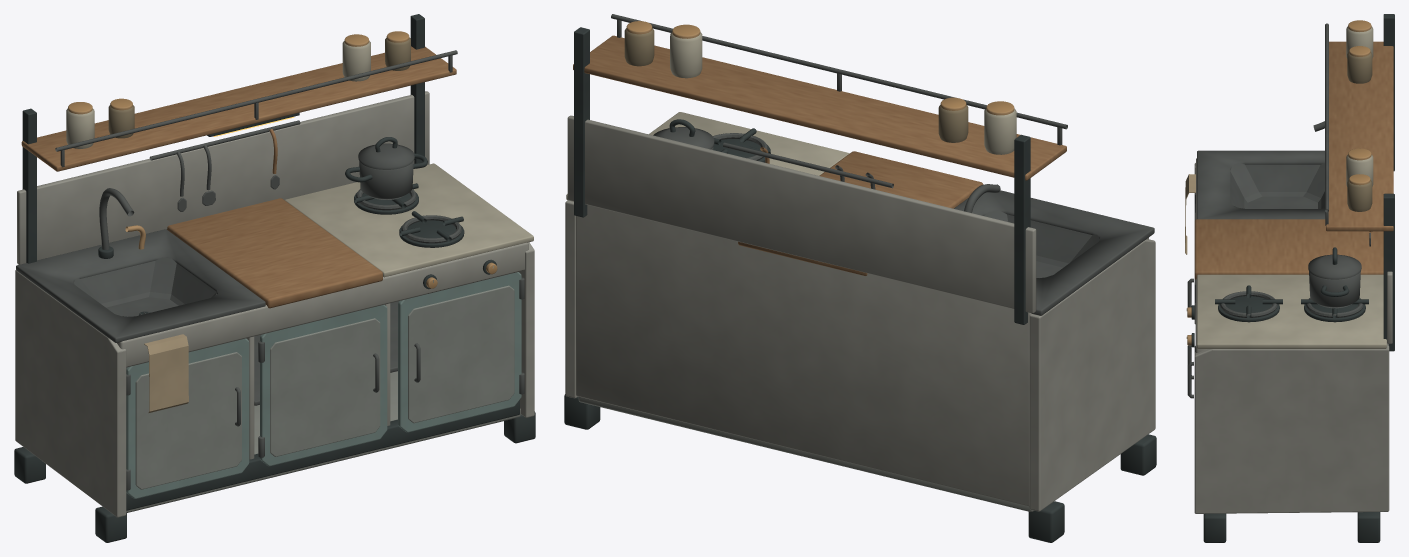
Rendered from NW9_Kitchen.fbx.
The picture shows the model from 3 angles, left to right: view 1: azimuth 30°, elevation 25°; view 2: azimuth 150°, elevation 25°; view 3: azimuth 270°, elevation 25°; orthographic projection. The views are drawn at different scales.
Visible parts, largest first — view 1: NW9_Kitchen_Mesh, NW9_Kitchen_Door_Left_Mesh, NW9_Kitchen_Door_Center_Mesh, NW9_Kitchen_Door_Right_Mesh, NW9_Kitchen_Countertop_Mesh, NW9_Kitchen_Pot_Mesh, NW9_Kitchen_PotLid_Mesh; view 2: NW9_Kitchen_Mesh, NW9_Kitchen_Countertop_Mesh, NW9_Kitchen_PotLid_Mesh; view 3: NW9_Kitchen_Mesh, NW9_Kitchen_Countertop_Mesh, NW9_Kitchen_Pot_Mesh, NW9_Kitchen_PotLid_Mesh, NW9_Kitchen_Door_Left_Mesh.
Boxes of the visible parts, x1,y1,x2,y2 form: NW9_Kitchen_Mesh: (14, 14, 535, 542); NW9_Kitchen_Door_Left_Mesh: (126, 334, 249, 498); NW9_Kitchen_Door_Center_Mesh: (258, 304, 387, 466); NW9_Kitchen_Door_Right_Mesh: (398, 272, 524, 432); NW9_Kitchen_Countertop_Mesh: (167, 198, 382, 308); NW9_Kitchen_Pot_Mesh: (345, 153, 427, 199); NW9_Kitchen_PotLid_Mesh: (358, 137, 414, 169); NW9_Kitchen_Mesh: (564, 14, 1156, 542); NW9_Kitchen_Countertop_Mesh: (738, 151, 983, 275); NW9_Kitchen_PotLid_Mesh: (653, 119, 714, 149); NW9_Kitchen_Mesh: (1186, 14, 1394, 542); NW9_Kitchen_Countertop_Mesh: (1194, 219, 1383, 279); NW9_Kitchen_Pot_Mesh: (1309, 271, 1360, 308); NW9_Kitchen_PotLid_Mesh: (1308, 247, 1361, 279); NW9_Kitchen_Door_Left_Mesh: (1185, 174, 1195, 307).
Size of the model in its own units: 2.09 by 1.69 by 0.927.
